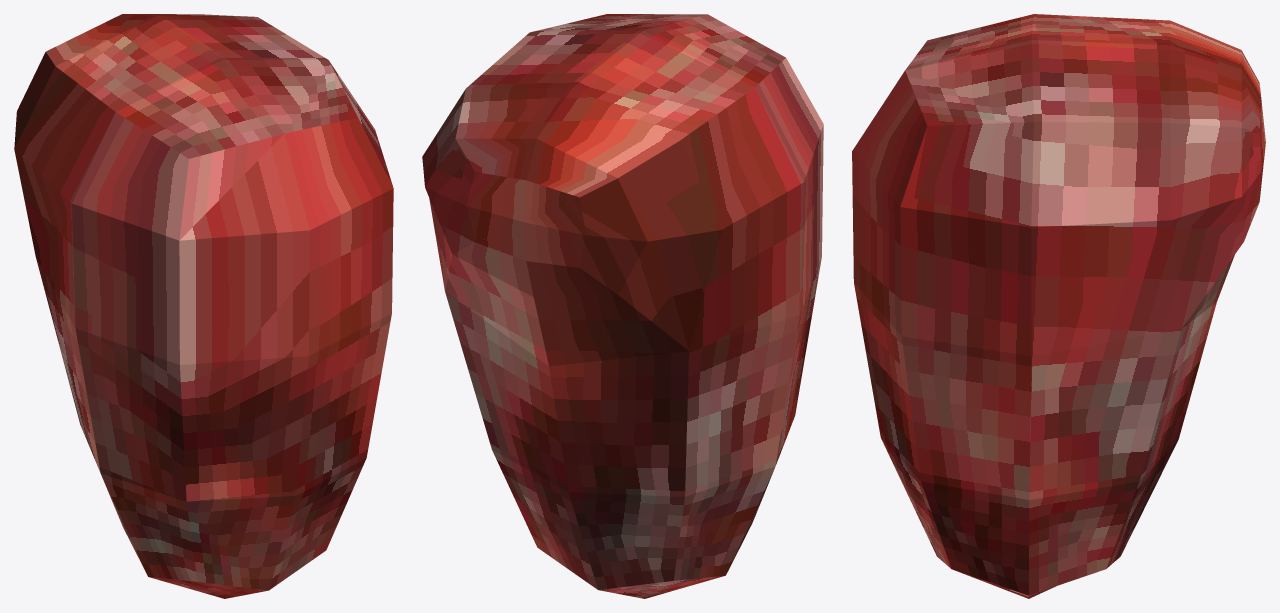
File: Viscera.fbx
3 views of the same model, side by side, from view 1: azimuth 30°, elevation 25°; view 2: azimuth 150°, elevation 25°; view 3: azimuth 270°, elevation 25° (orthographic). The views are drawn at different scales.
Parts seen in each view (by area): view 1: Cube; view 2: Cube; view 3: Cube.
Boxes of the visible parts, x1,y1,x2,y2 form: Cube: [14, 14, 393, 598]; Cube: [422, 14, 823, 598]; Cube: [852, 14, 1265, 598].
Size of the model in its own units: 179 by 304 by 204.
